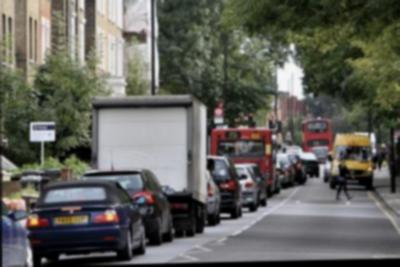License_Plate: (55, 213, 89, 226)
